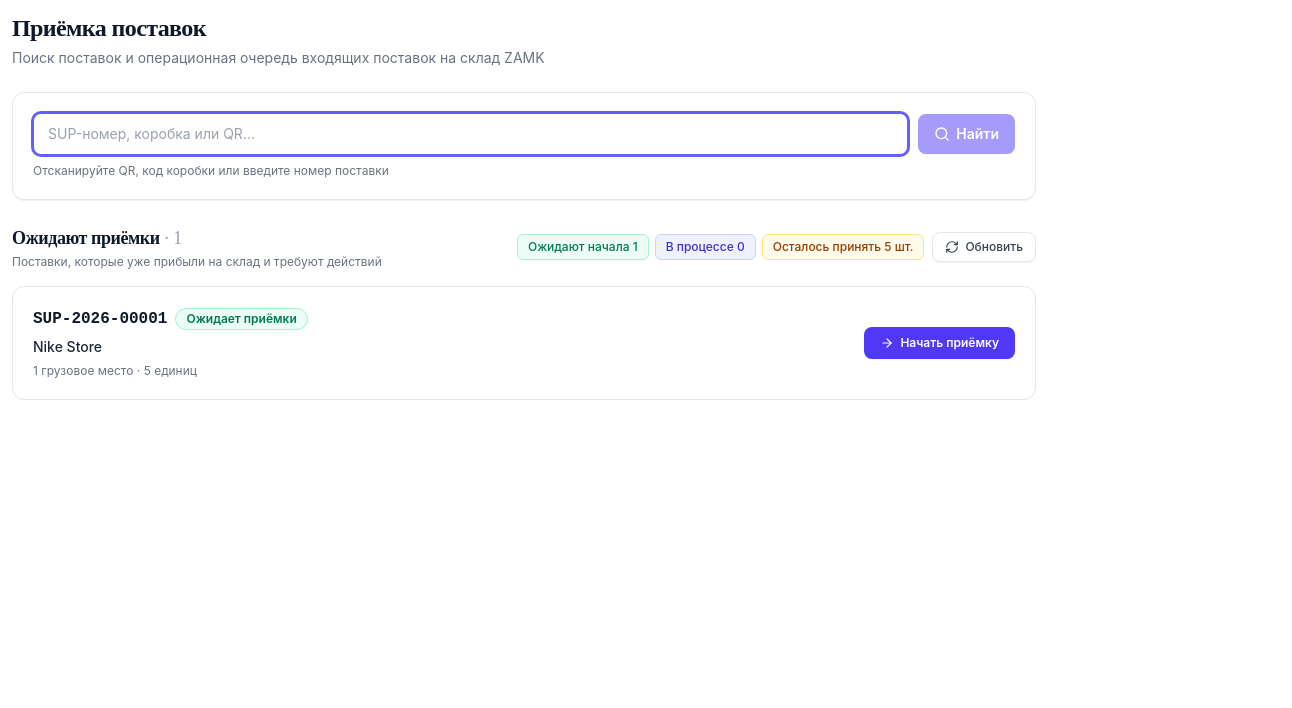
Test case: AdminSupplyReceiving Queue (WH.3) › clicking "Начать приёмку" on arrived supply starts session and enters scanning screen
The image size is (1292, 708).
Click the button "Начать приёмку".
click(940, 343)  # box [864,327,1015,359]
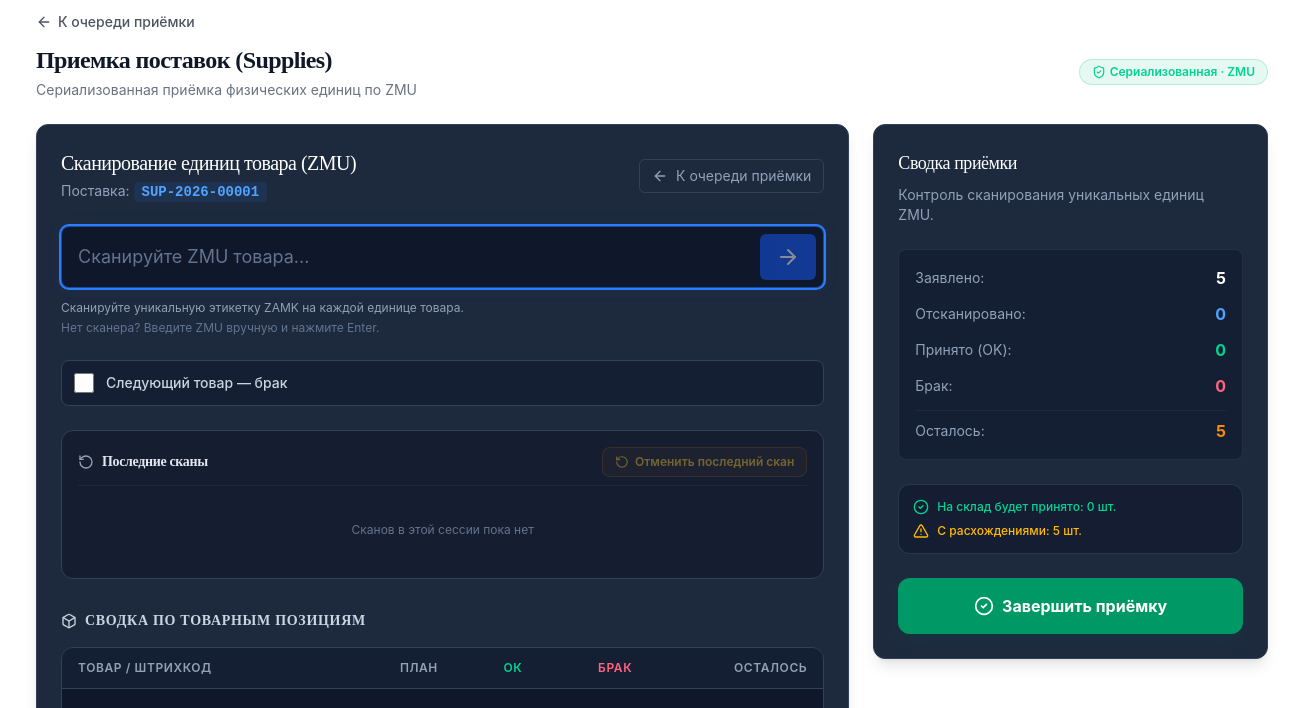
Now the field with placeholder "Сканируйте ZMU товара..." is shown, box [61,226,824,288]
Now the 1st button "К очереди приёмки" is shown
Click the 1st button "К очереди приёмки".
click(115, 22)  # box [36,12,195,32]
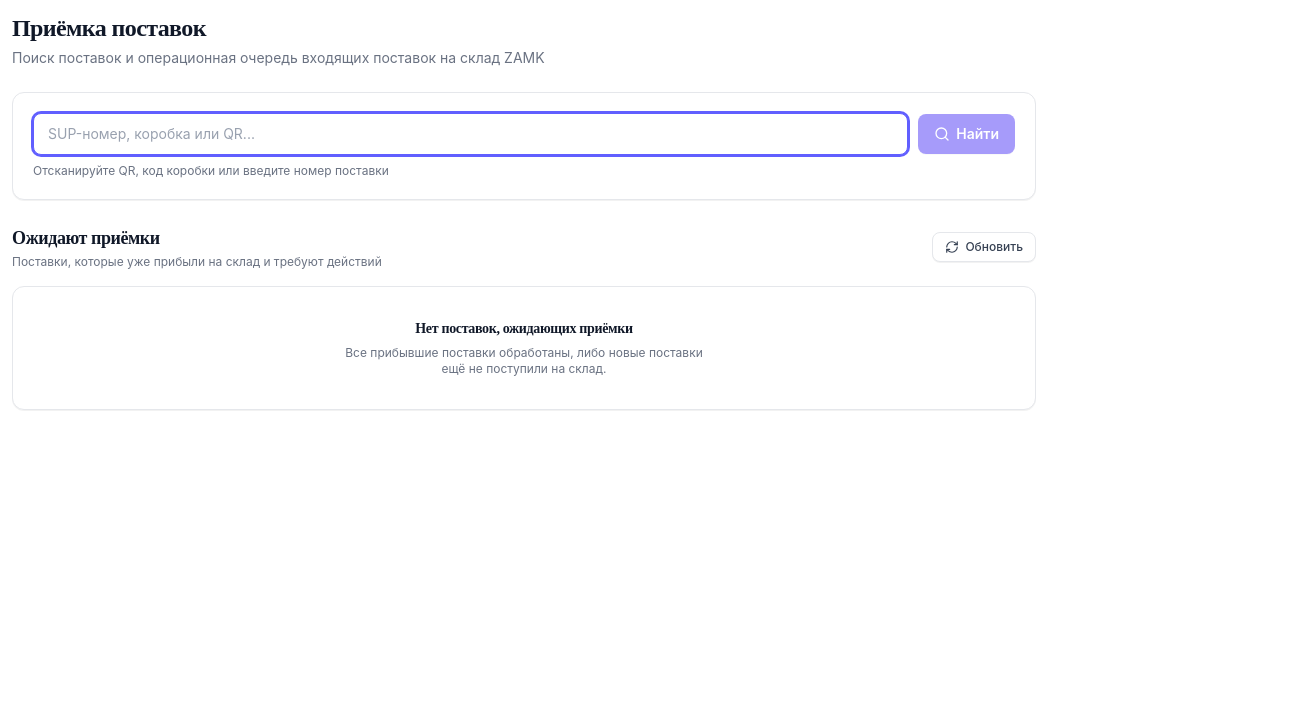
Now the heading "Ожидают приёмки" is shown, box [12,228,160,248]
